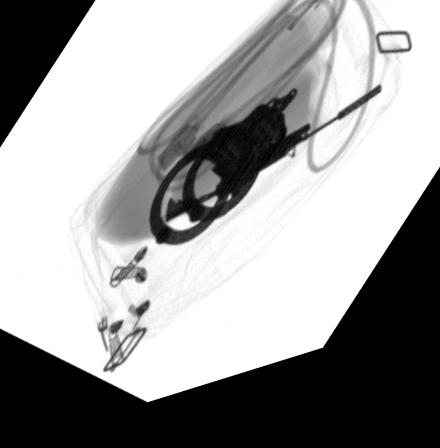Gun: (164, 105, 384, 232)
HandCuffs: (142, 104, 299, 256)
